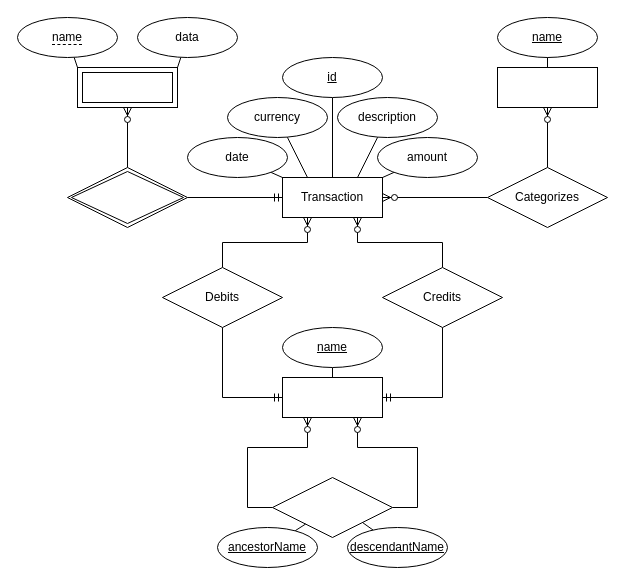
Some shapes in this 625 by 585 pixel diagram are drawn without their labels. Each missing label, with the centre of its shape:
Account: the point at 332,397
AncestorTo: the point at 332,507
Attachment: the point at 127,87
Supplements: the point at 127,197
Tag: the point at 547,87
